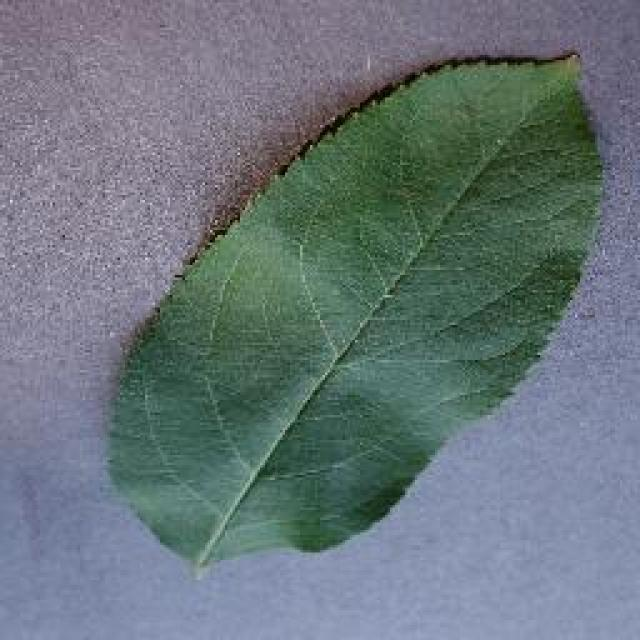apple healthy: (100, 48, 608, 578)
